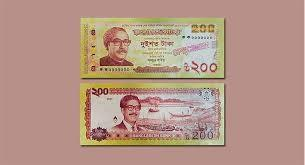200 tk: (82, 83, 223, 144), (83, 19, 224, 77)
